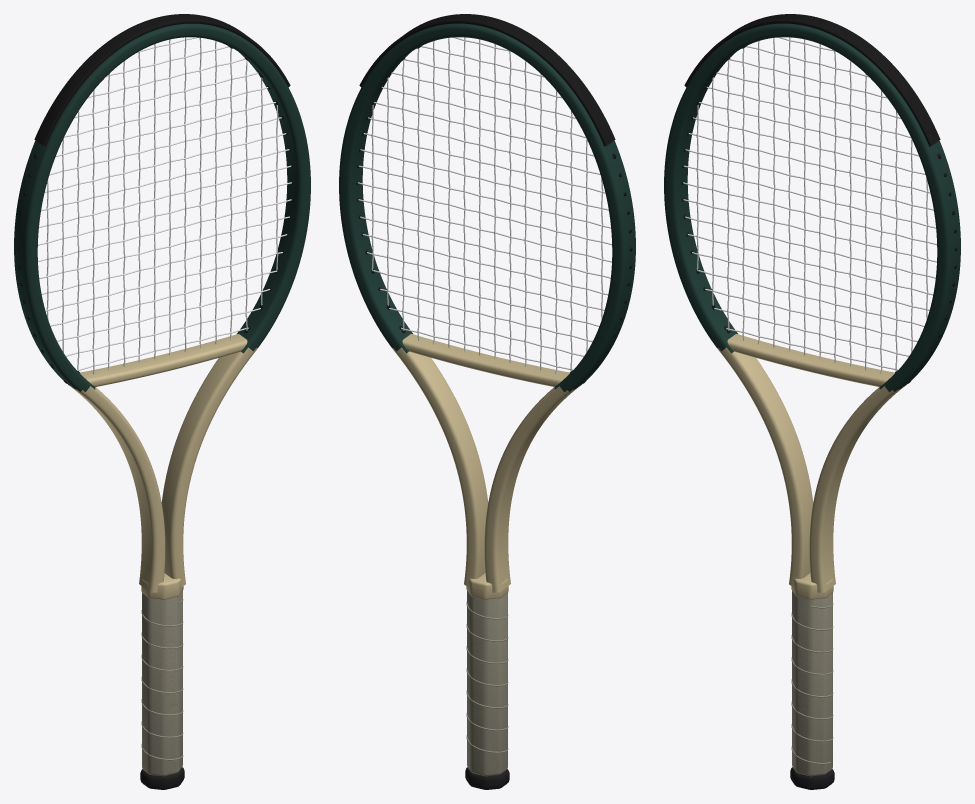
Rendered from yonex-percept-97.glb.
3 views of the same model, side by side, from view 1: azimuth 30°, elevation 25°; view 2: azimuth 150°, elevation 25°; view 3: azimuth 330°, elevation 25° (orthographic).
Parts seen in each view (by area): view 1: Frame, Strings, Handle, Bumper, Yoke, GripSeam, ButtCap, Collar; view 2: Frame, Strings, Handle, Bumper, Yoke, GripSeam, ButtCap, Collar; view 3: Frame, Strings, Handle, Bumper, Yoke, GripSeam, ButtCap, Collar.
Part boxes in pixels (<box>): Frame: <box>14,23,310,592</box>; Strings: <box>38,37,291,374</box>; Handle: <box>142,591,182,776</box>; Bumper: <box>34,14,290,146</box>; Yoke: <box>80,334,247,386</box>; GripSeam: <box>141,599,183,760</box>; ButtCap: <box>140,767,184,789</box>; Collar: <box>141,573,183,599</box>; Frame: <box>339,23,635,592</box>; Strings: <box>358,37,611,374</box>; Handle: <box>467,591,507,776</box>; Bumper: <box>359,14,615,146</box>; Yoke: <box>402,334,569,386</box>; GripSeam: <box>466,602,508,752</box>; ButtCap: <box>465,767,509,789</box>; Collar: <box>466,573,508,599</box>; Frame: <box>664,23,960,592</box>; Strings: <box>683,37,936,374</box>; Handle: <box>792,591,832,776</box>; Bumper: <box>684,14,940,146</box>; Yoke: <box>727,334,894,386</box>; GripSeam: <box>791,604,833,764</box>; ButtCap: <box>790,767,834,789</box>; Collar: <box>791,573,833,599</box>.
Bounding box in the file's own units: 0.2721 × 0.6886 × 0.0327.
Materials: 6 (1 with a texture image).
